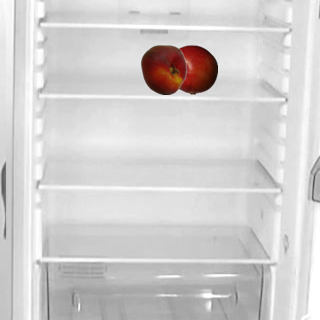Apple Braeburn: (167, 44, 217, 94)
Nectarine Flat: (138, 44, 188, 94)
